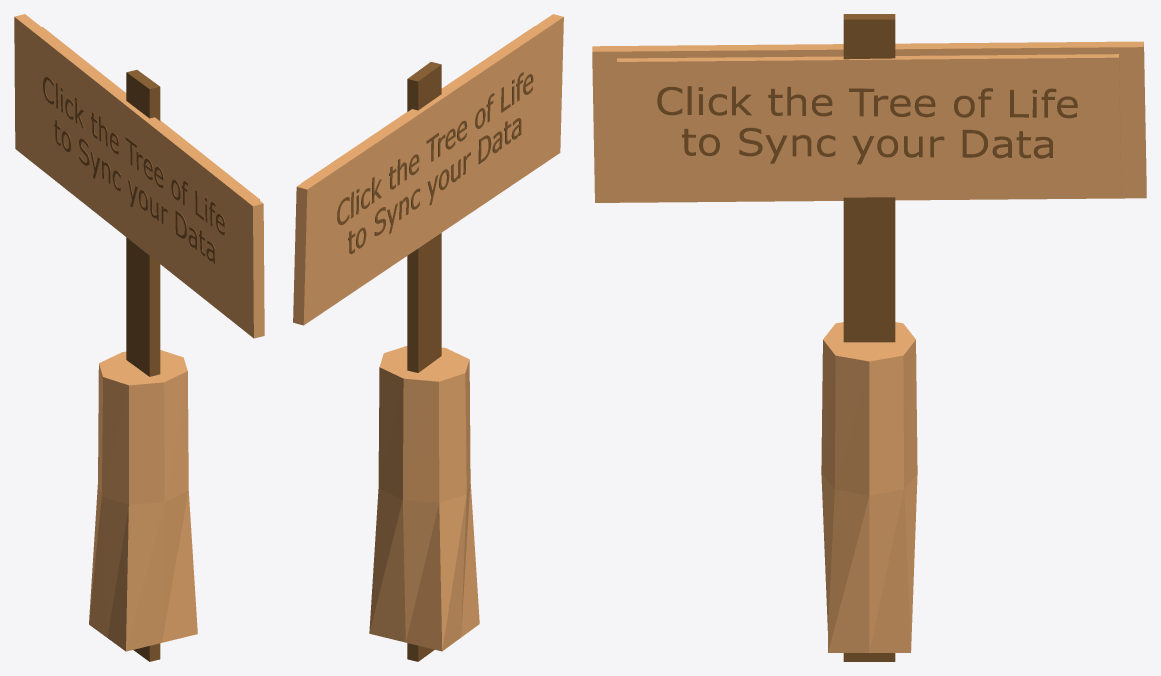
Rendered from zoo enableWallet.fbx.
3 renders of one model, left to right at view 1: azimuth 30°, elevation 25°; view 2: azimuth 150°, elevation 25°; view 3: azimuth 270°, elevation 25°, orthographic. The views are drawn at different scales.
Visible parts, largest first — view 1: Cube_2, Cube, Cube_1, MoText_2; view 2: Cube_2, Cube, Cube_1, MoText_2; view 3: Cube_2_2, Cube, Cube_2, Cube_1, MoText.
Part boxes in pixels (x1,y1,x2,y2): Cube_2: (14, 14, 264, 338); Cube: (89, 350, 197, 651); Cube_1: (126, 70, 160, 661); MoText_2: (43, 77, 225, 263); Cube_2: (293, 14, 563, 325); Cube: (369, 346, 479, 651); Cube_1: (407, 62, 441, 661); MoText_2: (337, 72, 533, 254); Cube_2_2: (617, 54, 1121, 199); Cube: (821, 322, 917, 652); Cube_2: (592, 41, 1146, 202); Cube_1: (843, 14, 895, 661); MoText: (657, 86, 1077, 164).
Size of the model in its own units: 3.9 by 25.69 by 20.11.
